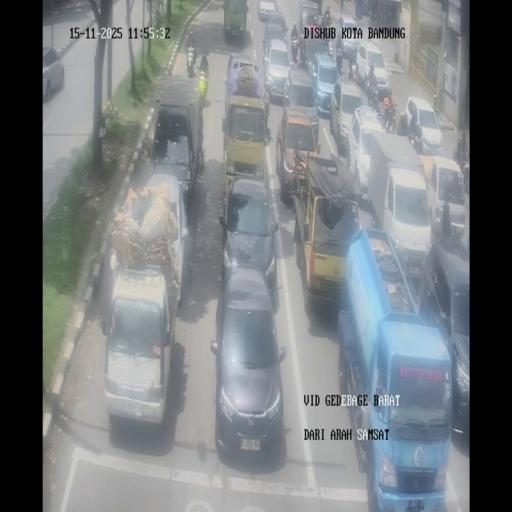car: (210, 269, 286, 464), (102, 264, 177, 430), (217, 176, 279, 300), (134, 172, 192, 301), (277, 108, 320, 200), (425, 156, 466, 238), (222, 53, 263, 132), (402, 96, 444, 156), (262, 39, 292, 102), (312, 51, 340, 117), (356, 42, 390, 96), (42, 45, 66, 102), (336, 14, 360, 57), (262, 10, 288, 47), (302, 12, 322, 42)
motorcycle: (455, 148, 469, 180), (198, 66, 209, 100), (186, 46, 197, 78), (369, 86, 381, 114), (397, 112, 409, 136), (368, 0, 381, 22), (298, 47, 309, 70), (348, 59, 358, 83), (290, 36, 299, 62), (322, 35, 332, 57), (321, 13, 332, 33), (364, 74, 373, 98), (386, 112, 396, 133), (197, 144, 204, 172), (336, 47, 343, 74)
truck: (338, 232, 451, 507), (295, 157, 363, 313), (364, 132, 430, 266), (148, 78, 205, 200), (223, 0, 249, 42)
